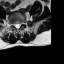CCS_normal: (16, 20, 18, 31)
LFS_normal: (20, 19, 22, 26)
LLS_normal: (18, 21, 20, 29)
RFS_stenosis: (11, 21, 13, 27)
RLS_normal: (13, 21, 16, 30)
